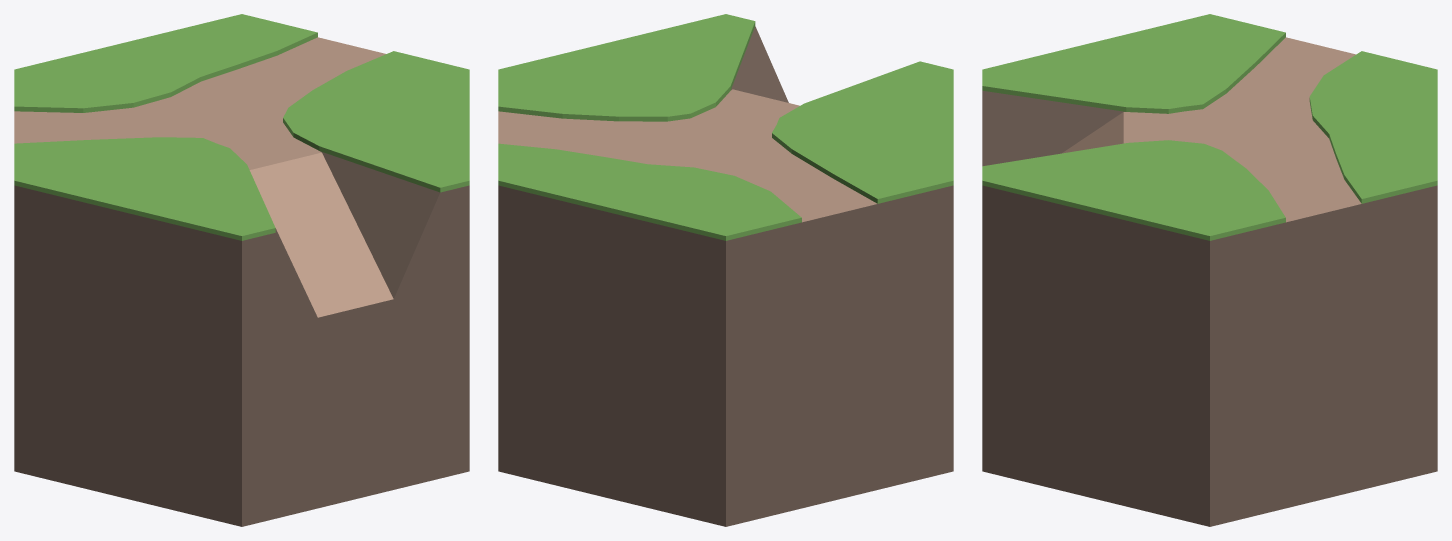
File: tile_roadUp4.fbx
3 views of the same model, side by side, from view 1: azimuth 30°, elevation 25°; view 2: azimuth 150°, elevation 25°; view 3: azimuth 270°, elevation 25° (orthographic).
Visible parts, largest first — view 1: Tile_Road_Up3; view 2: Tile_Road_Up3; view 3: Tile_Road_Up3.
Part boxes in pixels (x1,y1,x2,y2): Tile_Road_Up3: [14, 14, 469, 526]; Tile_Road_Up3: [498, 14, 953, 526]; Tile_Road_Up3: [982, 14, 1437, 526].
Size of the model in its own units: 2 by 1.22 by 1.73.
